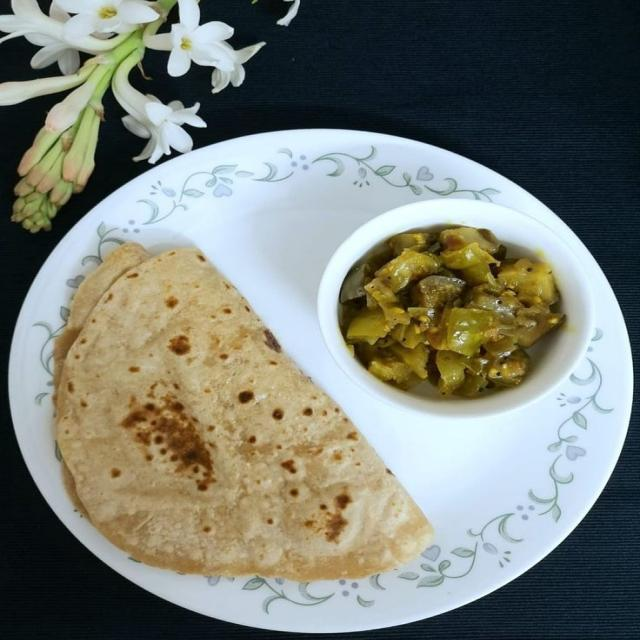chapathi: (33, 223, 443, 592)
